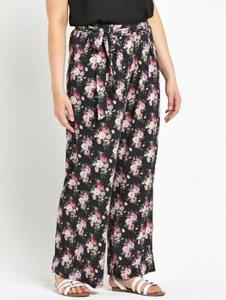C_W_pants: (50, 19, 164, 283)
